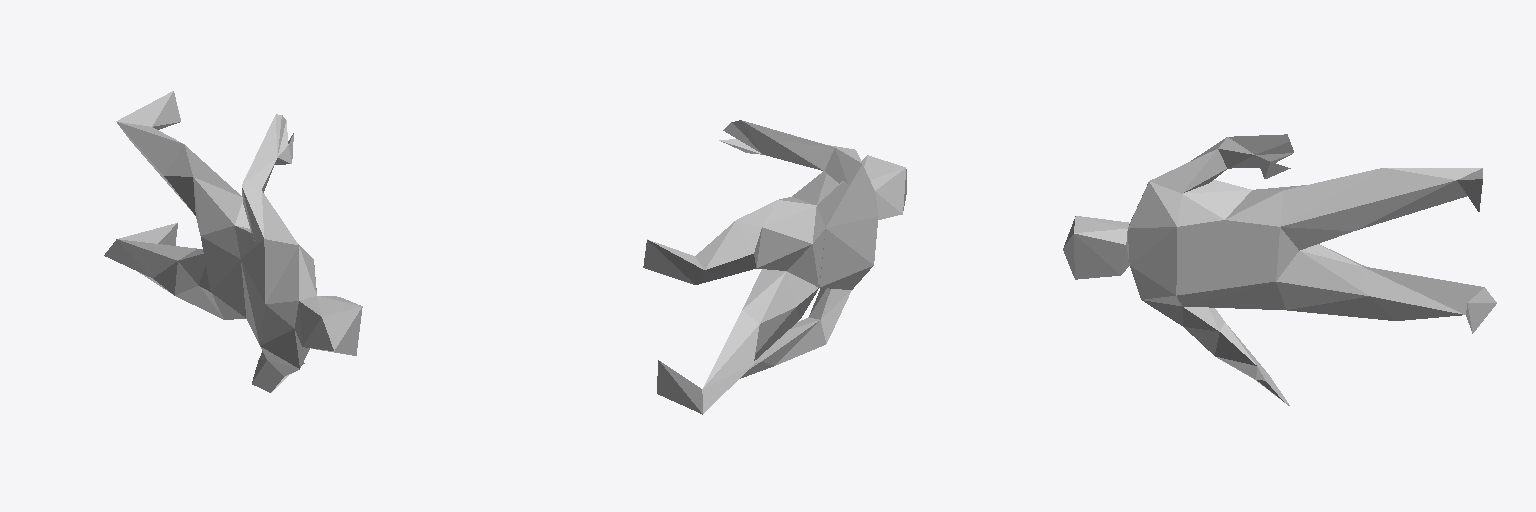
The model's file is m_reaver.obj.
3 views of the same model, side by side, from view 1: azimuth 30°, elevation 25°; view 2: azimuth 150°, elevation 25°; view 3: azimuth 270°, elevation 25° (orthographic).
Parts seen in each view (by area): view 1: HumanMale; view 2: HumanMale; view 3: HumanMale.
Part boxes in pixels (bbox=[...]): HumanMale: bbox=[104, 91, 362, 392]; HumanMale: bbox=[643, 120, 906, 414]; HumanMale: bbox=[1063, 134, 1496, 405].
Bounding box in the file's own units: 0.4192 × 1.05 × 1.55.